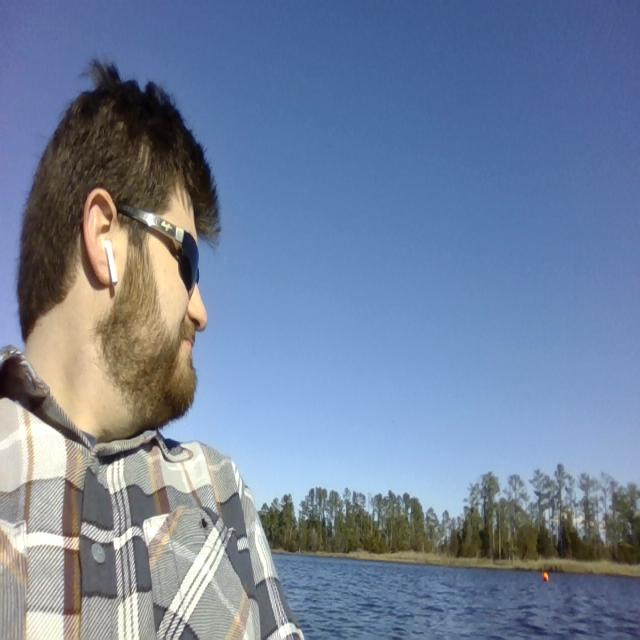Buoy: (540, 570, 552, 586)
